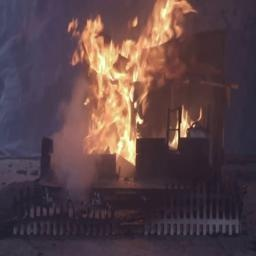fire: (63, 0, 212, 170)
